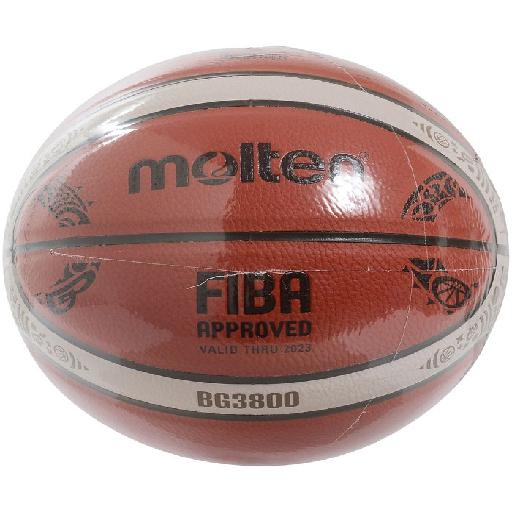ball: (1, 46, 509, 466)
